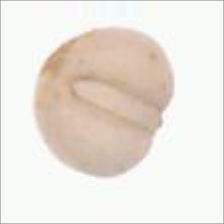L5: (67, 75, 164, 134), (32, 37, 78, 107)
L6: (32, 25, 177, 181)
